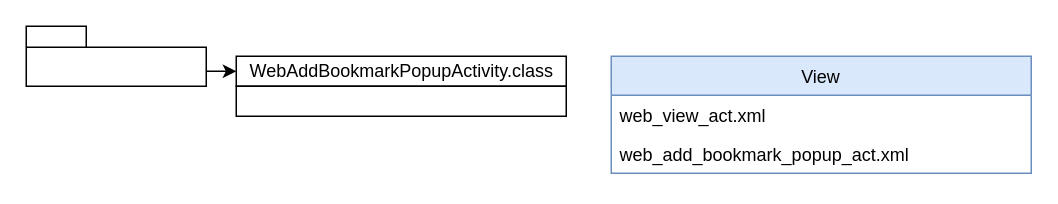
The diagram is 1058 pixels wide and 204 high, and some of its shapes have lost their labels. The centre of each missing label's shape, as x and y in pixels:
webview: the point at 115,55
WebViewActivity.class: the point at 400,100
